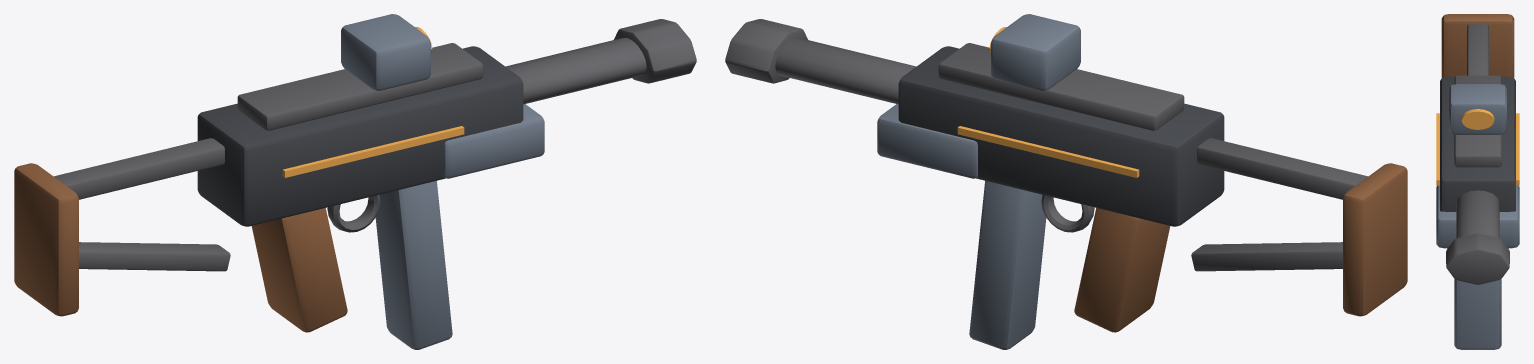
Rendered from SGP_SMG_Classic.glb.
3 renders of one model, left to right at view 1: azimuth 30°, elevation 25°; view 2: azimuth 150°, elevation 25°; view 3: azimuth 270°, elevation 25°, orthographic. The views are drawn at different scales.
Visible parts, largest first — view 1: SGP_SMG_Classic; view 2: SGP_SMG_Classic; view 3: SGP_SMG_Classic.
Part boxes in pixels (x1,y1,x2,y2): SGP_SMG_Classic: (14, 14, 696, 349); SGP_SMG_Classic: (725, 14, 1407, 349); SGP_SMG_Classic: (1436, 14, 1519, 349).
Bounding box in the file's own units: 0.5015 × 0.2349 × 0.0736.
